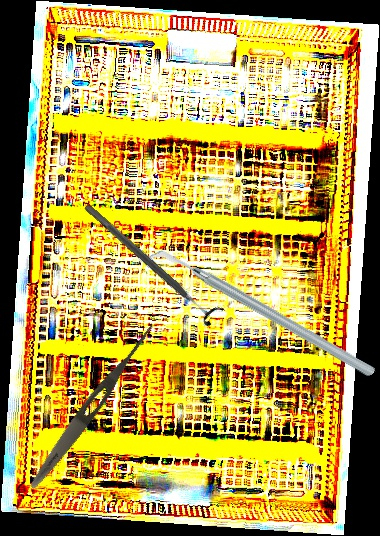Chopper: (141, 184, 379, 443)
Dressing Forceps: (24, 316, 161, 494)
Fixation Ring: (77, 195, 225, 330)
